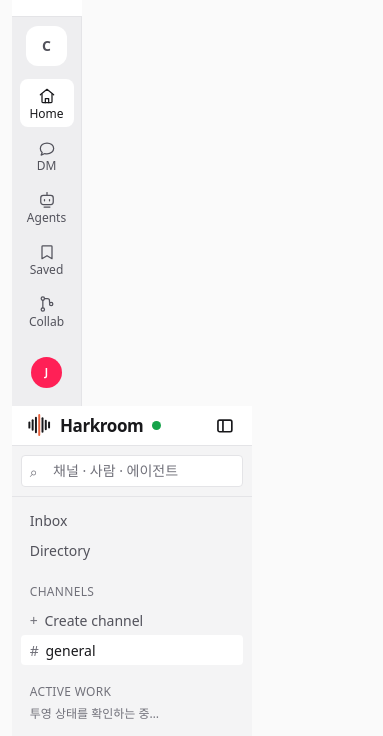
it: A1 · 내 자리가 얼굴을 갖고 눌린다 › 상태 패널은 아무것도 안 바꾸고 나올 수 있다
Click the button with test id "me-row" at (46, 373), box [16,348,76,397]
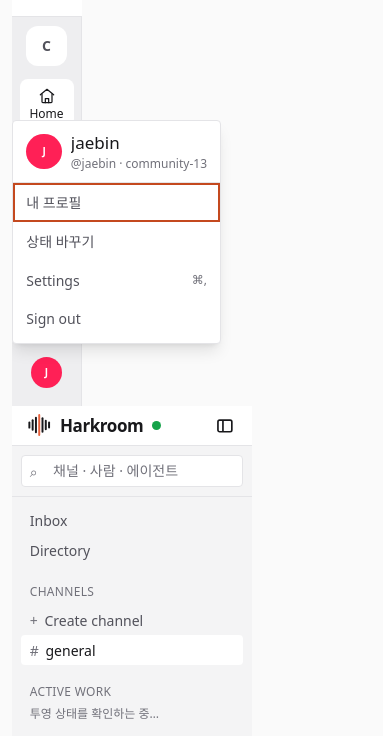
Click the menu item "상태 바꾸기" at (117, 241), box [13,222,220,261]
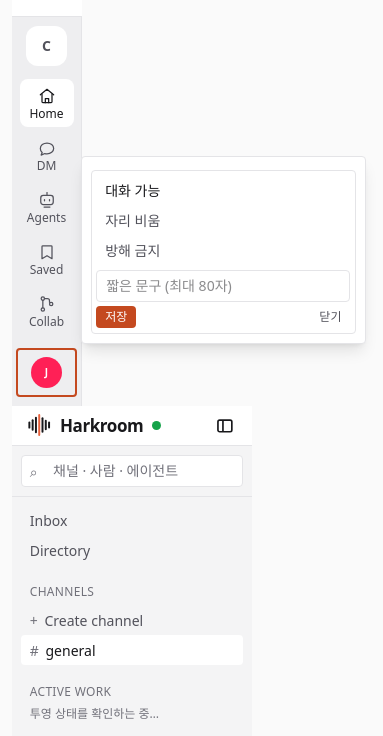
Press Escape in the element with test id "status-picker", box [91,170,356,334]
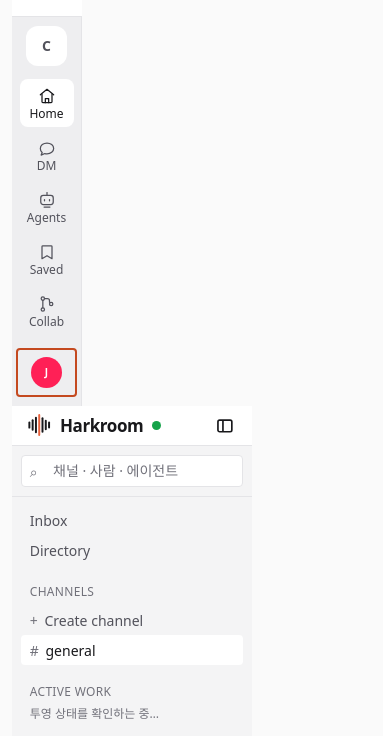
Now the element with test id "status-picker" is gone
Click the button with test id "me-row" at (46, 373), box [16,348,76,397]
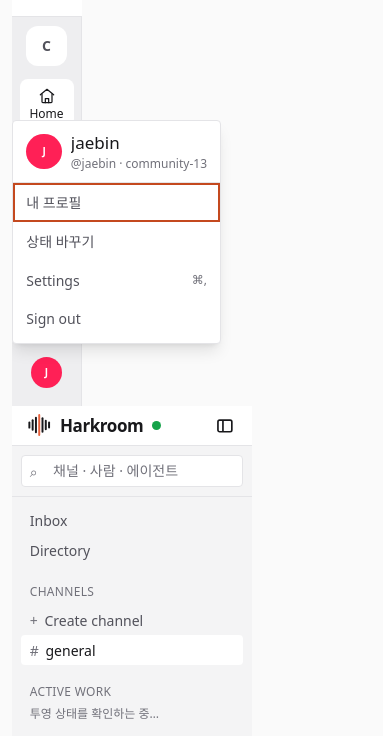
Click the menu item "상태 바꾸기" at (117, 241), box [13,222,220,261]
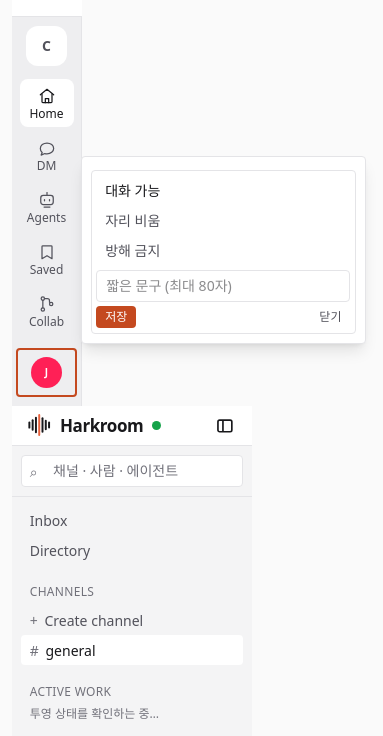
Click the button "닫기" at (330, 317), box [310,306,350,328]
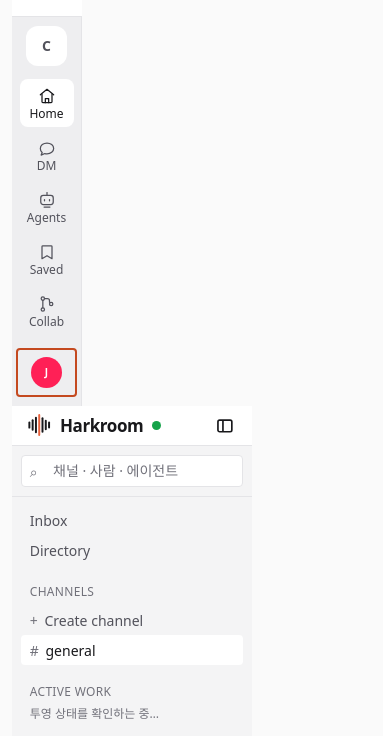
Now the element with test id "status-picker" is gone
